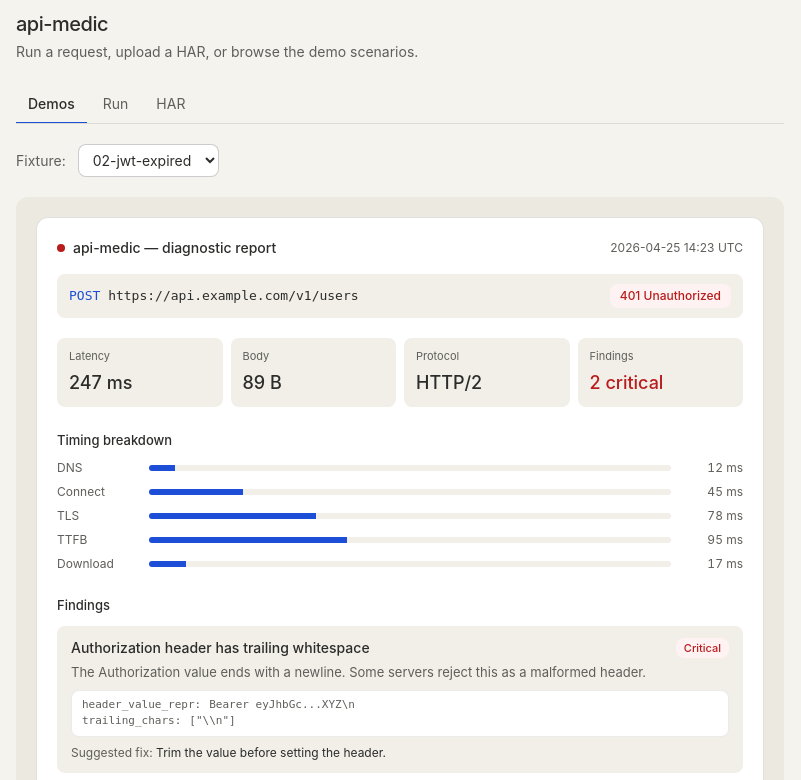
Test: App › switches fixtures via the dropdown
The width and height of the screenshot is (801, 780).
Select "01-healthy" in the dropdown labelled "Fixture:" at (148, 160), box [78,144,219,177]
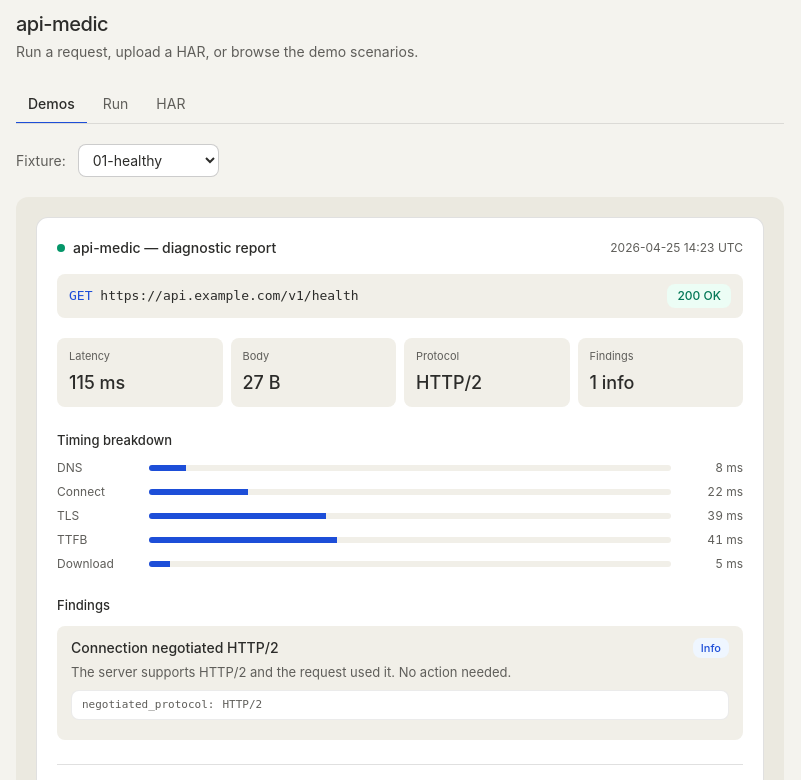
Check: the text "Connection negotiated HTTP/2" is shown, box [71,638,278,658]
